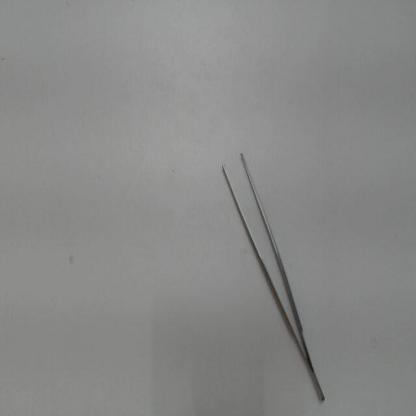Gillies Toothed Dissector: (217, 134, 331, 410)
